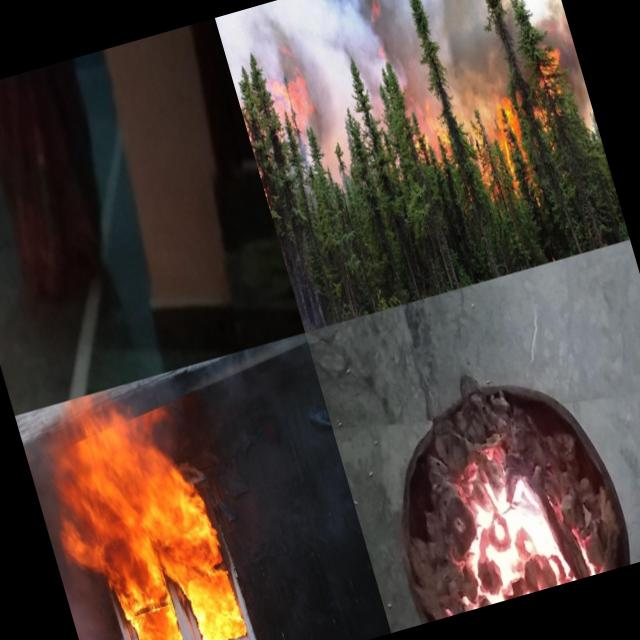fire: (41, 390, 251, 640), (418, 436, 602, 614), (459, 94, 540, 202), (257, 44, 322, 144), (401, 86, 457, 166), (531, 35, 572, 105)
smoke: (212, 412, 364, 570), (214, 0, 503, 63), (298, 12, 436, 118), (427, 0, 516, 109), (543, 0, 593, 116)
